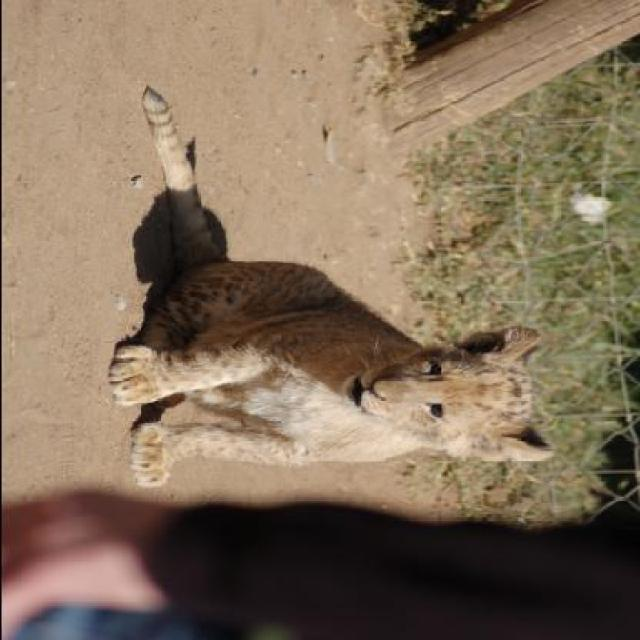Lion: (79, 108, 583, 502)
